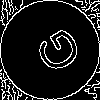G: (25, 25, 85, 82)
